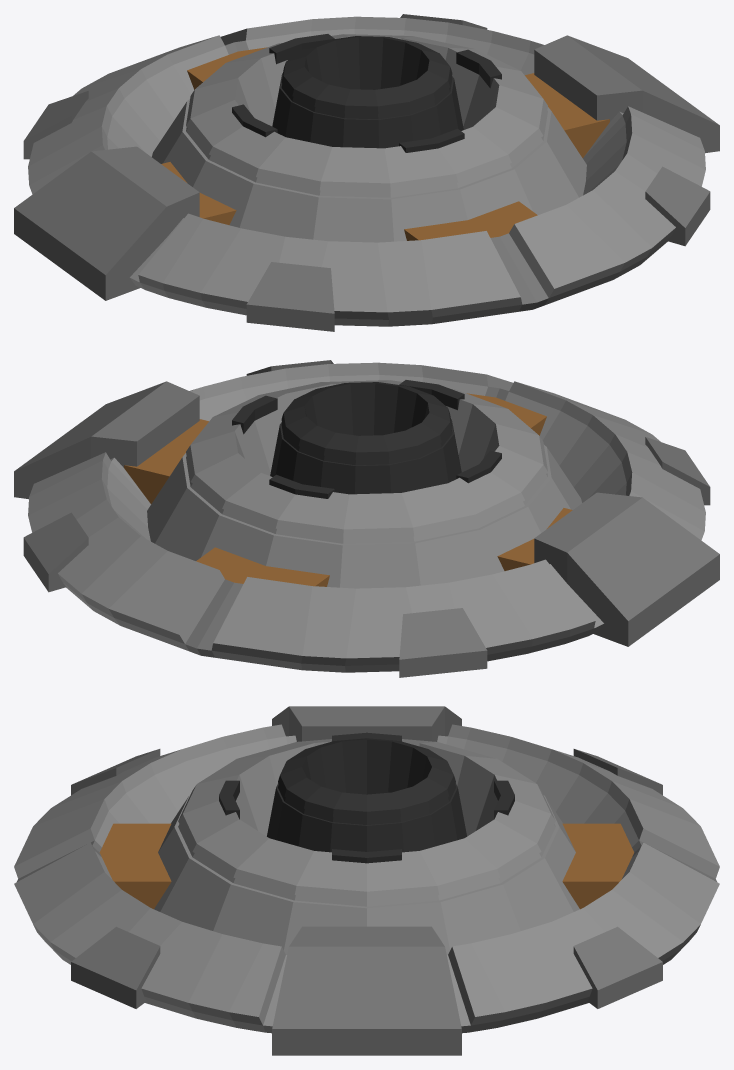
The model's file is Turret_Teleporter.glb.
The picture shows the model from 3 angles, top to bottom: view 1: azimuth 30°, elevation 25°; view 2: azimuth 150°, elevation 25°; view 3: azimuth 270°, elevation 25°; orthographic projection. The views are drawn at different scales.
Visible parts, largest first — view 1: Turret_Teleporter; view 2: Turret_Teleporter; view 3: Turret_Teleporter.
Boxes of the visible parts, bbox=[...] form: Turret_Teleporter: bbox=[14, 14, 719, 331]; Turret_Teleporter: bbox=[14, 360, 719, 677]; Turret_Teleporter: bbox=[14, 706, 719, 1055].
Size of the model in its own units: 1.16 by 0.2325 by 1.11.
